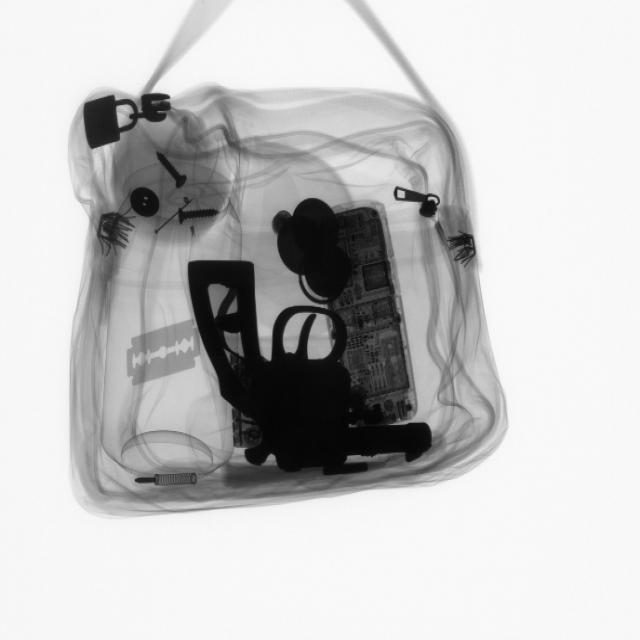BLADE: (124, 314, 208, 390)
GUN: (191, 254, 440, 475)
SCREW: (153, 143, 194, 198), (166, 197, 229, 232)
